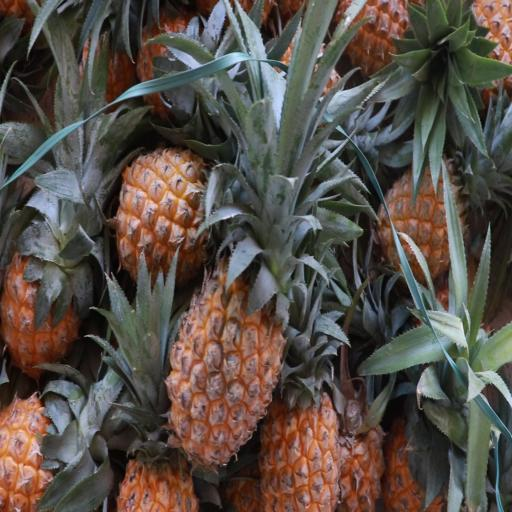Pineapple - v8 v1: (164, 230, 292, 473), (111, 138, 250, 298), (0, 208, 94, 380), (372, 147, 468, 291), (0, 377, 96, 512), (114, 366, 202, 512), (255, 367, 343, 512), (338, 378, 387, 509)
